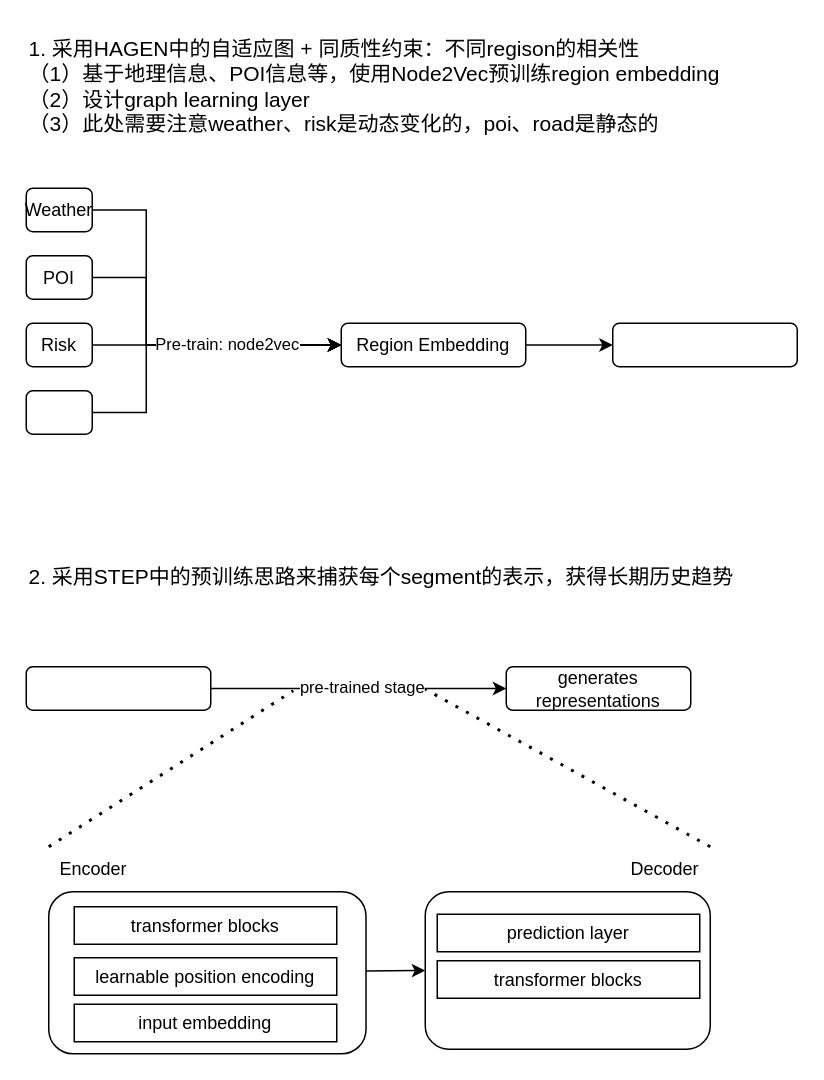
Some shapes in this 824 by 1080 pixel diagram are drawn without their labels. The box of each missing label's shape, as (x1, y1, x2, y2) in pixels:
Original time series: (25, 665, 211, 710)
Region Graph Learning: (611, 322, 797, 367)
Road...: (25, 389, 92, 434)
